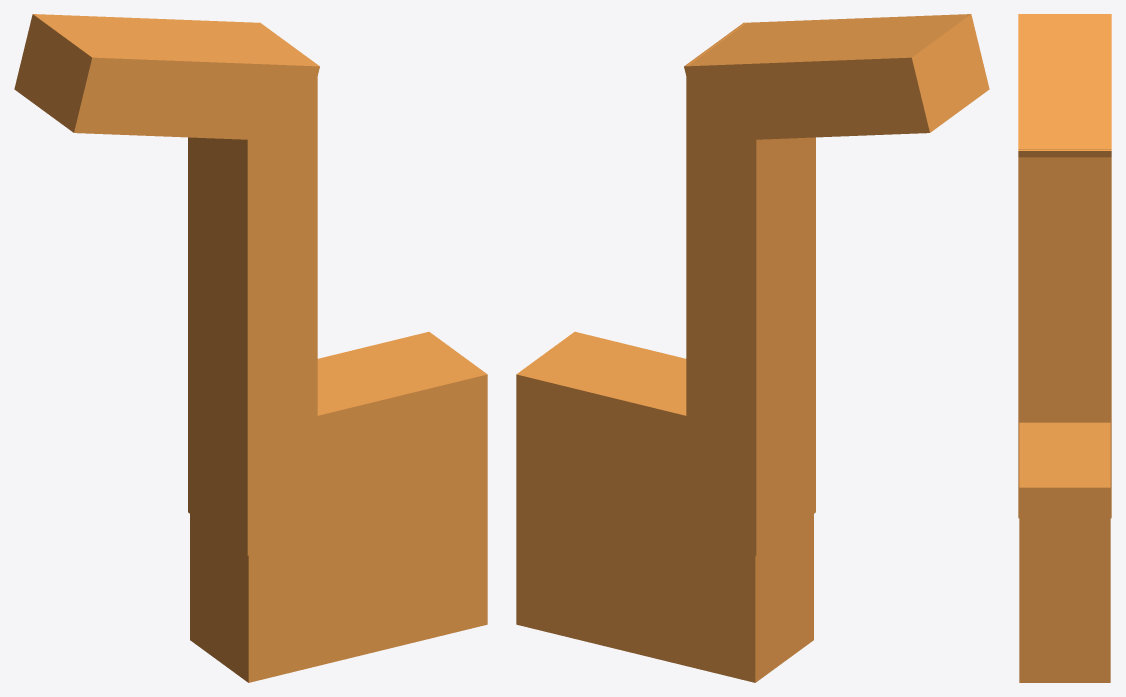
File: note_single.fbx
3 renders of one model, left to right at view 1: azimuth 30°, elevation 25°; view 2: azimuth 150°, elevation 25°; view 3: azimuth 270°, elevation 25°, orthographic. The views are drawn at different scales.
Visible parts, largest first — view 1: Cube, Cube.001, Cube.004; view 2: Cube, Cube.001, Cube.004; view 3: Cube.001, Cube, Cube.004.
Boxes of the visible parts, x1,y1,x2,y2 form: Cube: (190, 331, 487, 682); Cube.001: (188, 22, 317, 555); Cube.004: (14, 14, 319, 141); Cube: (516, 331, 813, 682); Cube.001: (686, 22, 815, 555); Cube.004: (684, 14, 989, 140); Cube.001: (1018, 149, 1111, 518); Cube: (1019, 422, 1110, 682); Cube.004: (1018, 14, 1111, 157).
Bounding box in the file's own units: 347 × 531 × 86.38.
